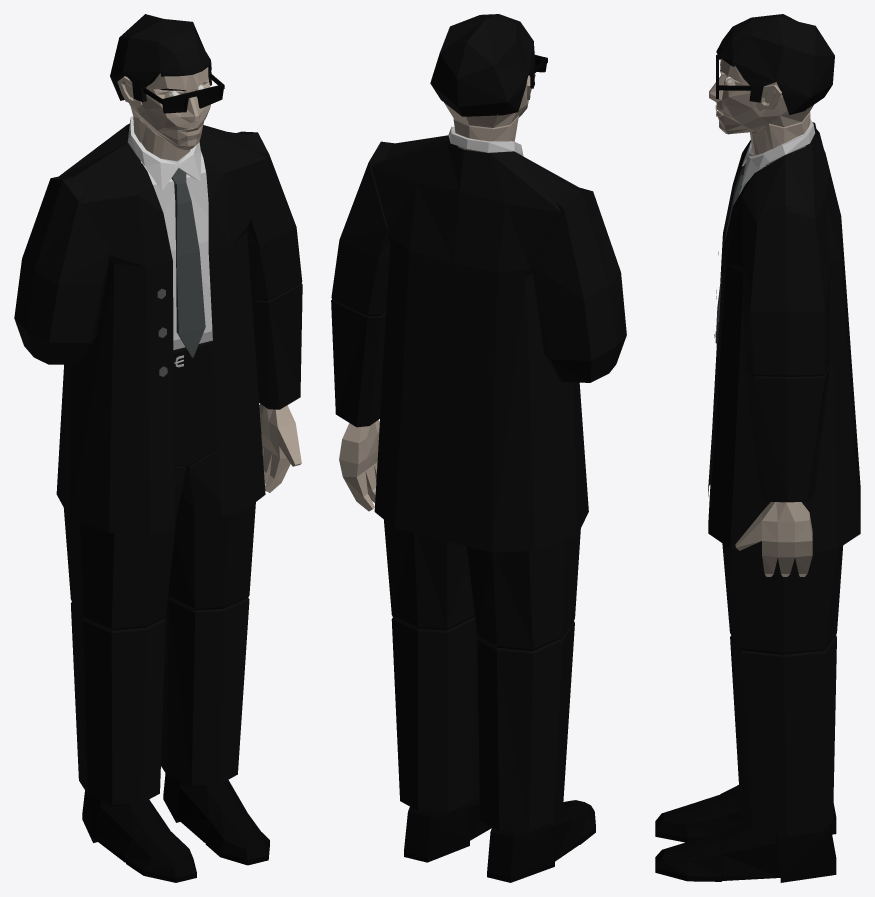
The model's file is humanMocap.dae.
The picture shows the model from 3 angles, left to right: view 1: azimuth 30°, elevation 25°; view 2: azimuth 150°, elevation 25°; view 3: azimuth 270°, elevation 25°; orthographic projection. The views are drawn at different scales.
Visible parts, largest first — view 1: UpperBody, RKnee, LKnee, RUpperArm, RThigh, LThigh, LUpperArm, vthair, LForeArm, vtshirt, Pelvis, vttie (+8 smaller); view 2: UpperBody, RKnee, LKnee, RUpperArm, RThigh, vthair, LThigh, LUpperArm, LForeArm, RFoot, LFoot, LHand (+4 smaller); view 3: UpperBody, LKnee, LUpperArm, LThigh, LForeArm, vthair, LFoot, LHand, Head, LToe, RToe, Neck (+3 smaller).
Boxes of the visible parts, bbox=[...] form: UpperBody: bbox=[56, 123, 266, 533]; RKnee: bbox=[71, 602, 165, 804]; LKnee: bbox=[161, 596, 249, 785]; RUpperArm: bbox=[14, 175, 110, 364]; RThigh: bbox=[64, 465, 186, 630]; LThigh: bbox=[168, 449, 255, 610]; LUpperArm: bbox=[236, 131, 302, 301]; vthair: bbox=[110, 14, 211, 102]; LForeArm: bbox=[251, 283, 302, 409]; vtshirt: bbox=[127, 116, 212, 349]; Pelvis: bbox=[173, 340, 217, 467]; vttie: bbox=[171, 168, 205, 357]; UpperBody: bbox=[372, 135, 588, 552]; RKnee: bbox=[477, 621, 574, 832]; LKnee: bbox=[391, 616, 479, 812]; RUpperArm: bbox=[531, 186, 626, 382]; RThigh: bbox=[466, 528, 580, 651]; vthair: bbox=[430, 14, 534, 116]; LThigh: bbox=[384, 520, 474, 630]; LUpperArm: bbox=[331, 141, 393, 316]; LForeArm: bbox=[331, 299, 386, 427]; RFoot: bbox=[487, 808, 579, 882]; LFoot: bbox=[404, 791, 491, 862]; LHand: bbox=[339, 420, 379, 511]; UpperBody: bbox=[708, 126, 860, 553]; LKnee: bbox=[730, 635, 836, 835]; LUpperArm: bbox=[742, 205, 830, 376]; LThigh: bbox=[722, 543, 843, 654]; LForeArm: bbox=[745, 363, 829, 502]; vthair: bbox=[716, 14, 834, 114]; LFoot: bbox=[719, 822, 836, 882]; LHand: bbox=[735, 502, 812, 576]; Head: bbox=[709, 58, 813, 134]; LToe: bbox=[655, 834, 722, 881]; RToe: bbox=[655, 795, 721, 842]; Neck: bbox=[750, 112, 810, 166].
Bounding box in the file's own units: 2.35 × 1.51 × 6.78.
